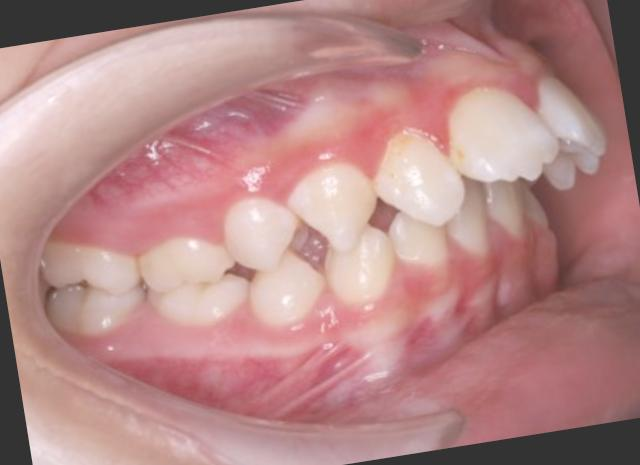canine class II 3/4: (304, 111, 484, 332)
molar class II 1/4: (130, 222, 258, 340)
